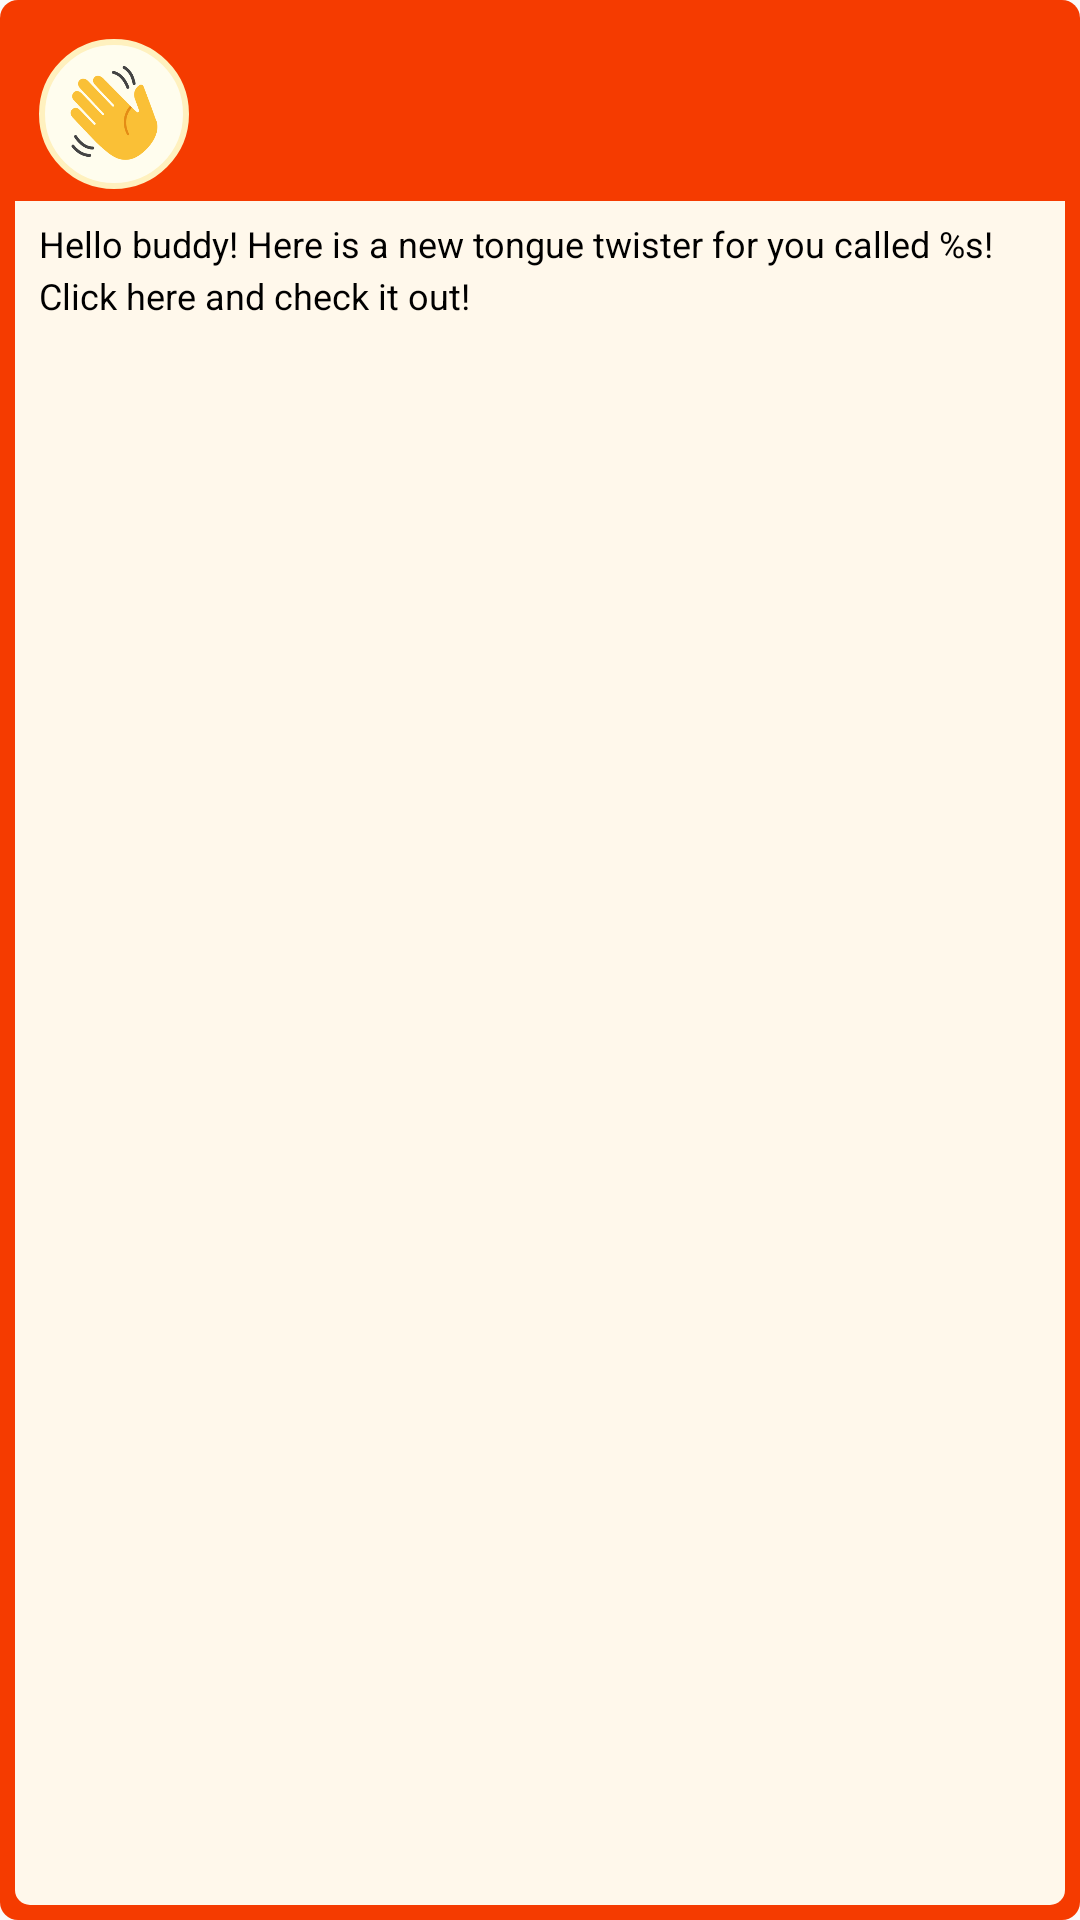

Screen size 1080px×1920px. Icon name, then its box in pixels as bbox=(x1, y1, x2, y2):
hand hello: bbox=(39, 39, 189, 189)
